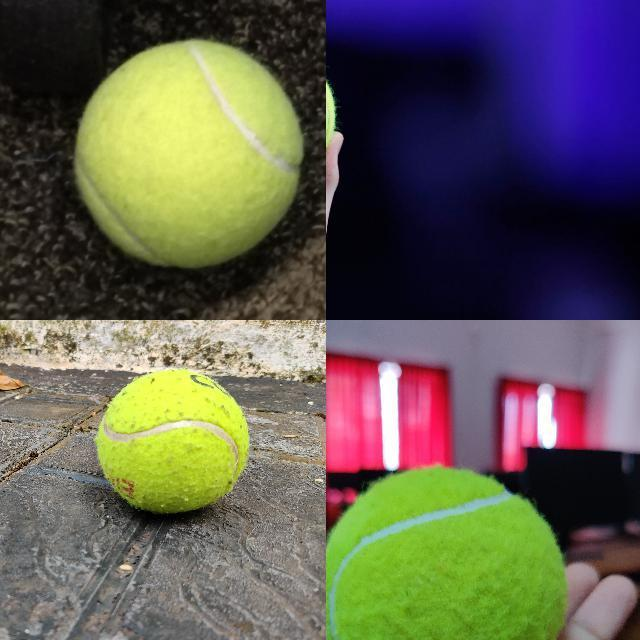tennis-ball: (69, 31, 307, 272), (326, 466, 568, 639), (94, 366, 250, 514)
